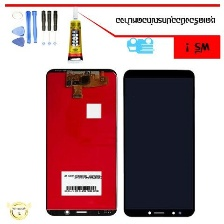phone: (43, 63, 120, 217), (121, 66, 198, 218)
